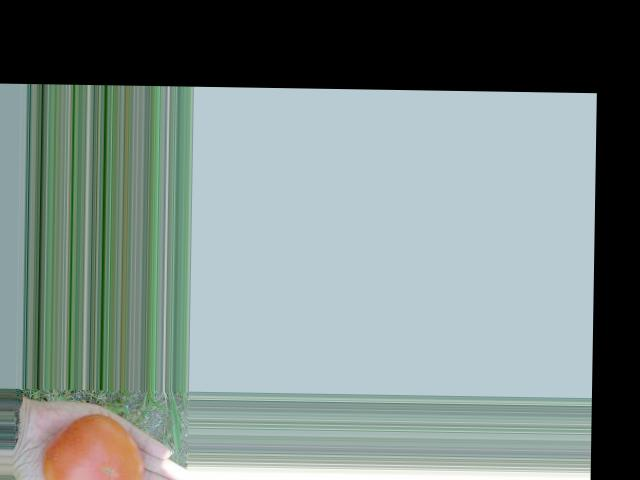tomato: (42, 412, 145, 480)
